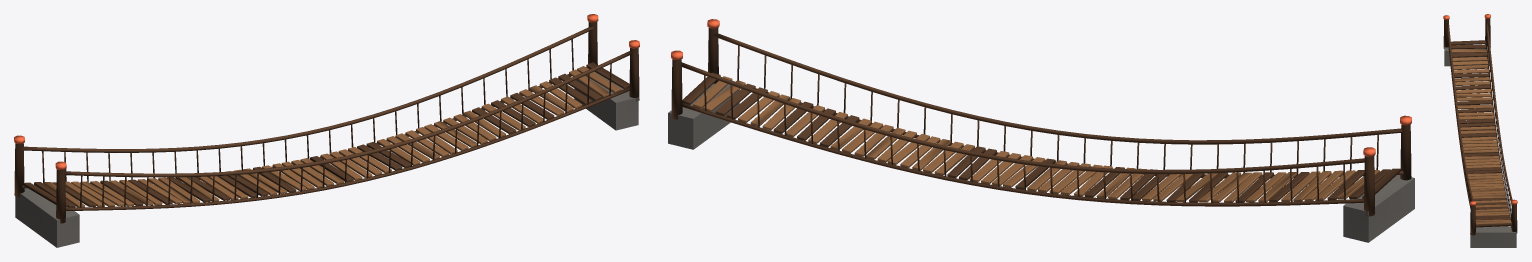
Rendered from blogs_research.glb.
3 renders of one model, left to right at view 1: azimuth 30°, elevation 25°; view 2: azimuth 150°, elevation 25°; view 3: azimuth 270°, elevation 25°, orthographic. The views are drawn at different scales.
Parts seen in each view (by area): view 1: bridge; view 2: bridge; view 3: bridge.
Part boxes in pixels (x1,y1,x2,y2): bridge: (14, 14, 639, 247); bridge: (668, 19, 1414, 242); bridge: (1443, 14, 1517, 247).
Bounding box in the file's own units: 16.14 × 3.1 × 3.04.
